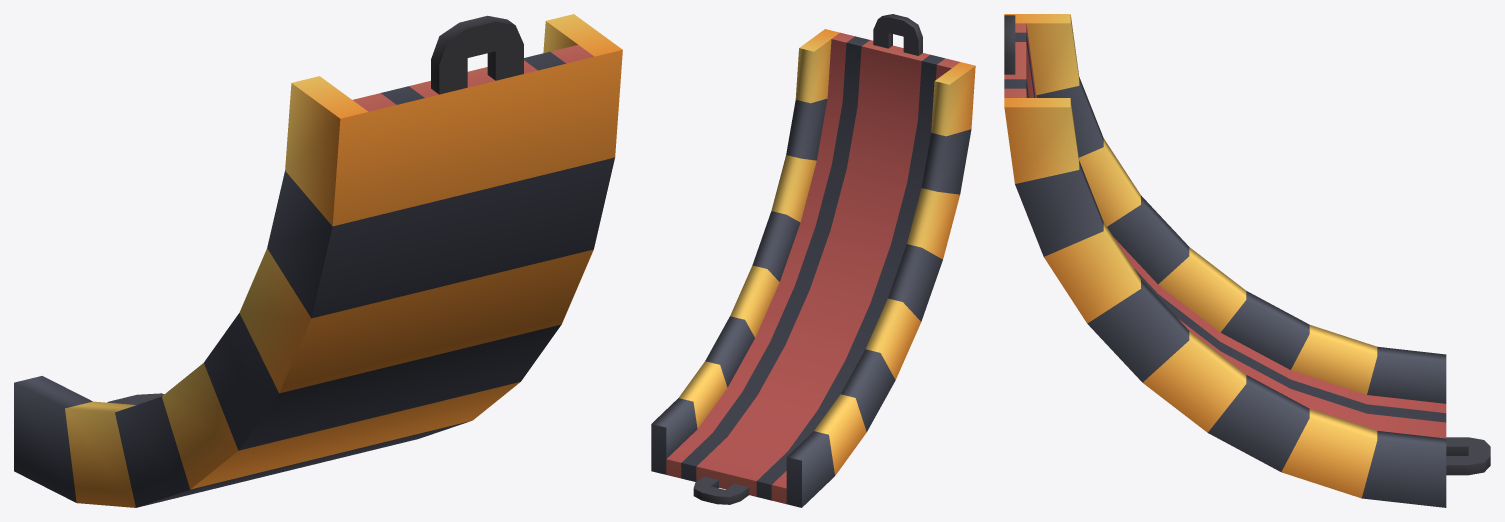
Rendered from track-road-narrow-straight-bend.fbx.
3 views of the same model, side by side, from view 1: azimuth 30°, elevation 25°; view 2: azimuth 150°, elevation 25°; view 3: azimuth 270°, elevation 25° (orthographic). The views are drawn at different scales.
Visible parts, largest first — view 1: track-road-narrow-straight-bend; view 2: track-road-narrow-straight-bend; view 3: track-road-narrow-straight-bend.
Part boxes in pixels (left/top/right/bottom): track-road-narrow-straight-bend: left=14, top=14, right=622, bottom=507; track-road-narrow-straight-bend: left=651, top=14, right=975, bottom=507; track-road-narrow-straight-bend: left=1004, top=14, right=1490, bottom=507.
Size of the model in its own units: 100 by 220 by 220.
